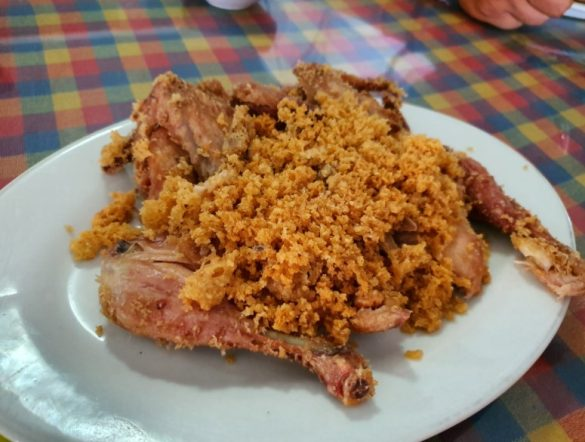Ayam: (77, 48, 578, 416)
